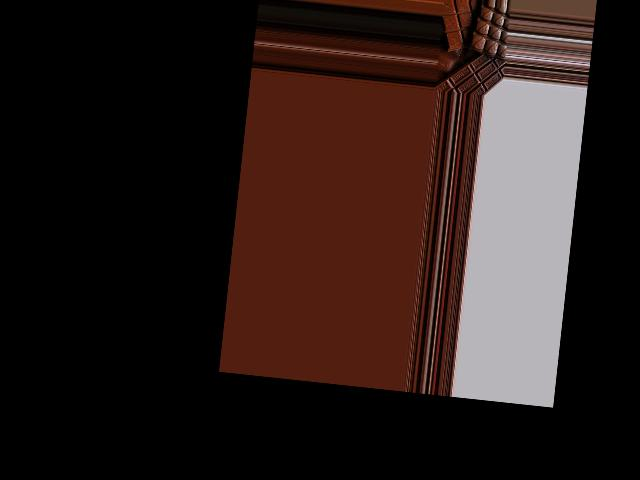chocolate: (442, 0, 486, 54)
